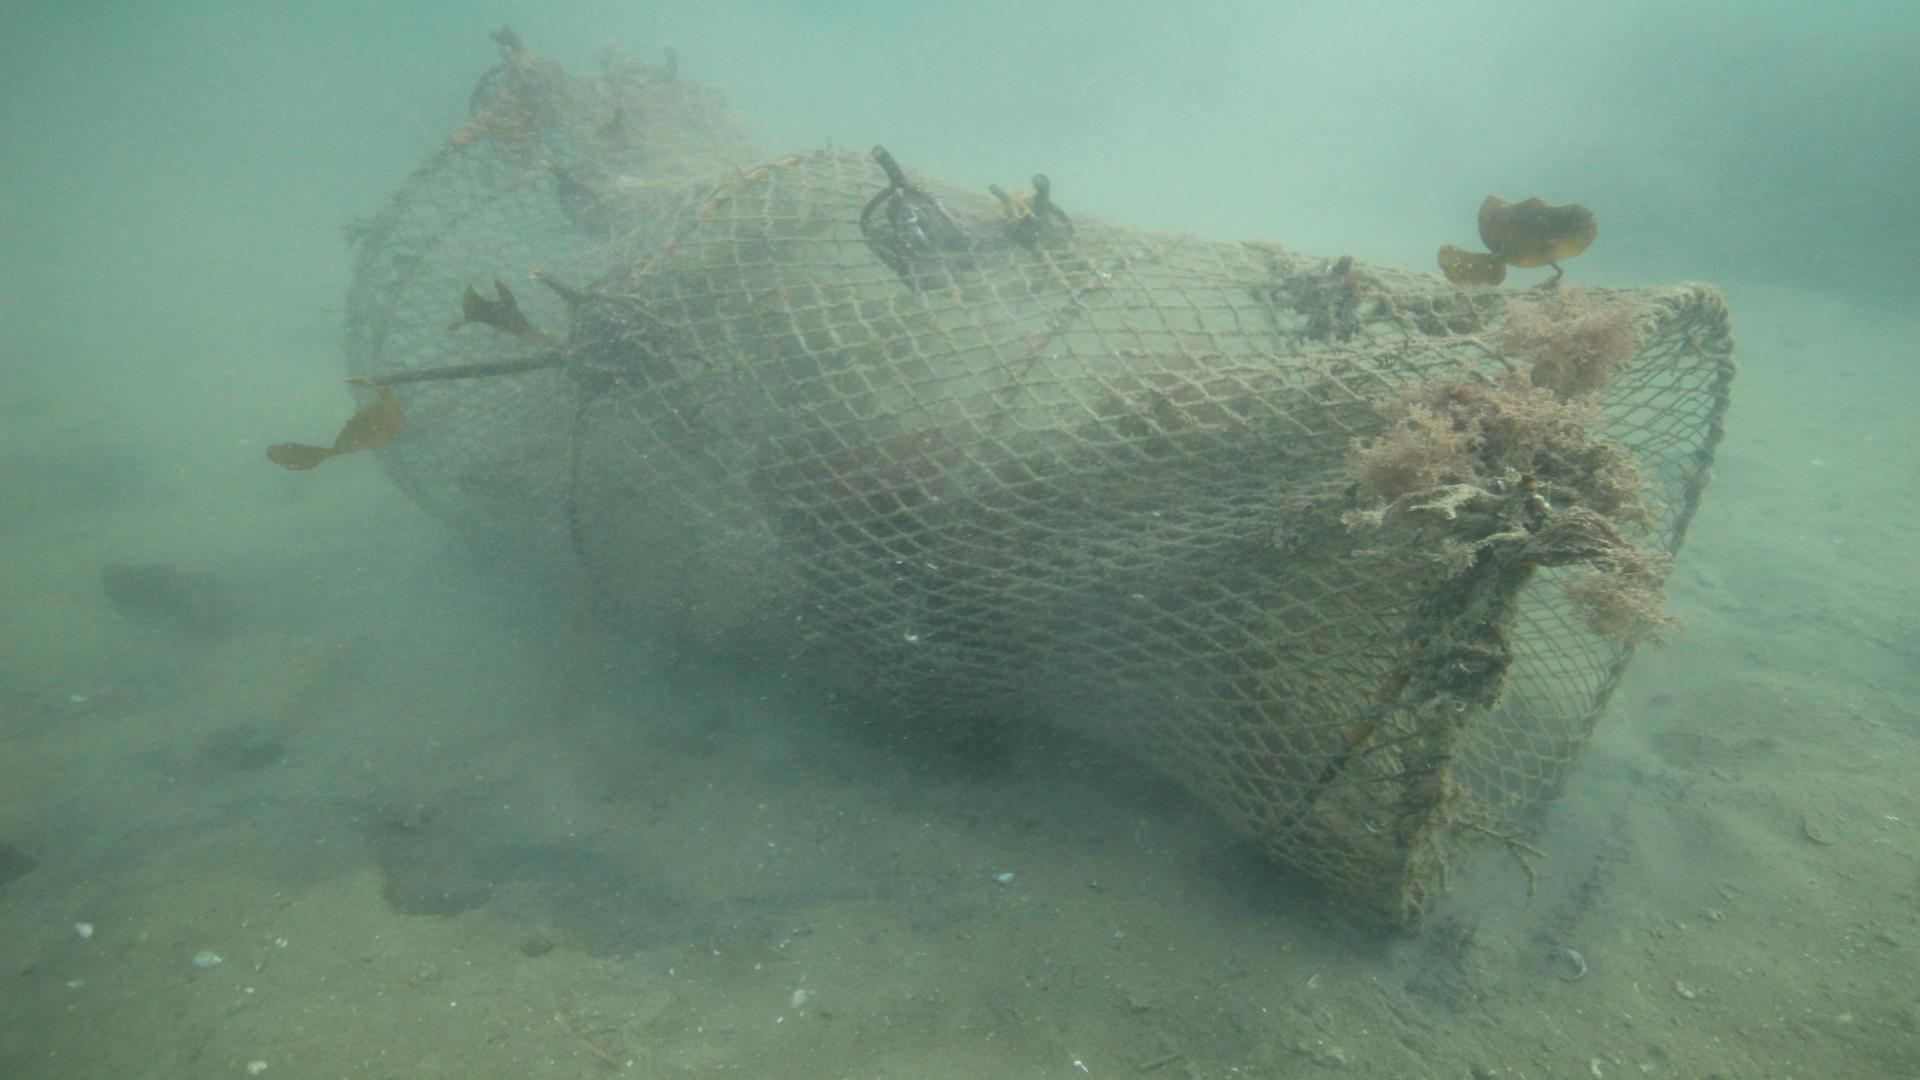spring fish trap: (342, 69, 1741, 938)
